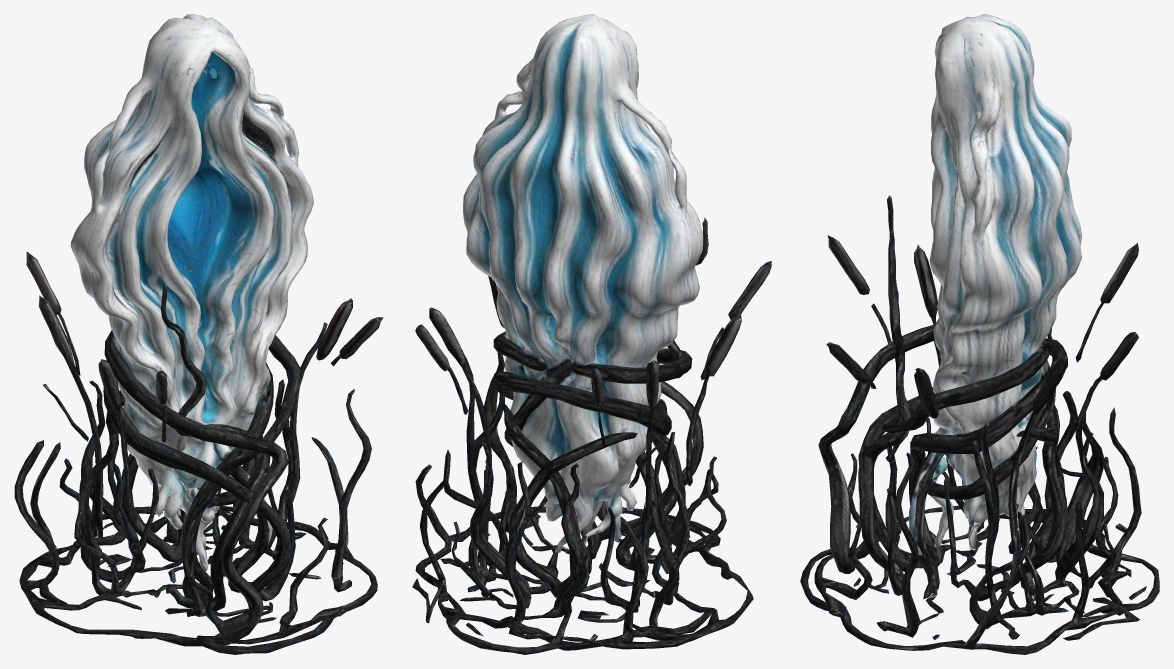
Rendered from Spree_Will-o-wisp2.glb.
3 views of the same model, side by side, from view 1: azimuth 30°, elevation 25°; view 2: azimuth 150°, elevation 25°; view 3: azimuth 270°, elevation 25° (orthographic).
Size of the model in its own units: 1.08 by 1.91 by 1.09.
1 material, 1 textured.
